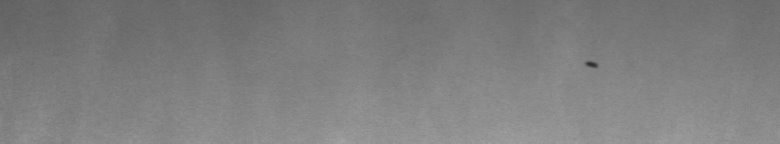fi: (584, 53, 600, 76)
